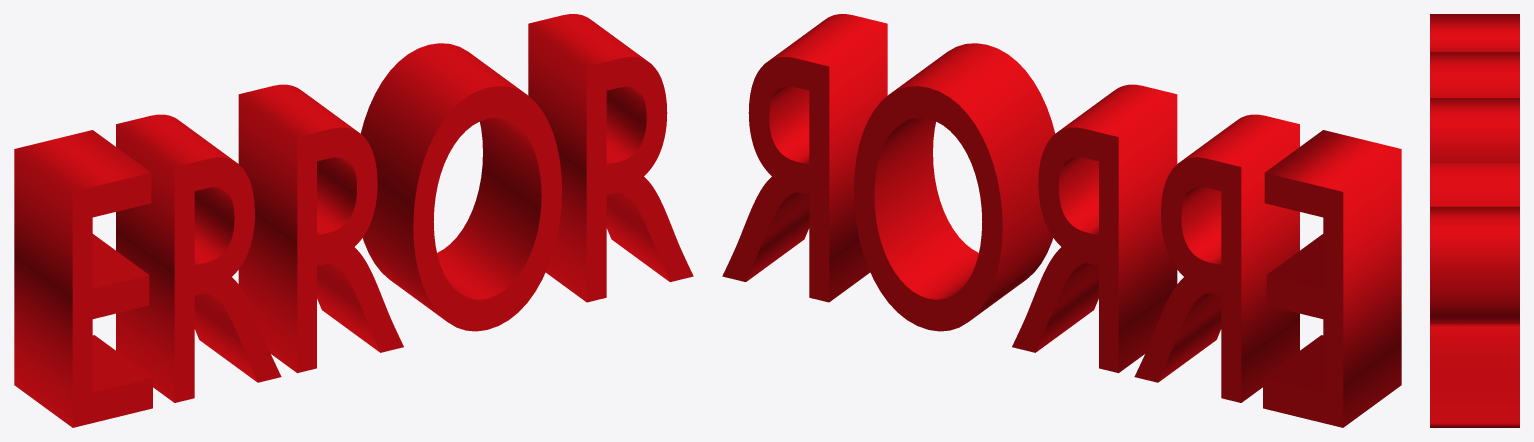
Rendered from desk.fbx.
3 views of the same model, side by side, from view 1: azimuth 30°, elevation 25°; view 2: azimuth 150°, elevation 25°; view 3: azimuth 270°, elevation 25° (orthographic). The views are drawn at different scales.
Visible parts, largest first — view 1: Text; view 2: Text; view 3: Text.
Boxes of the visible parts, x1=… form: Text: x1=14, y1=14, x2=693, y2=427; Text: x1=722, y1=14, x2=1401, y2=427; Text: x1=1430, y1=14, x2=1519, y2=427.
Size of the model in its own units: 306 by 114 by 50.
